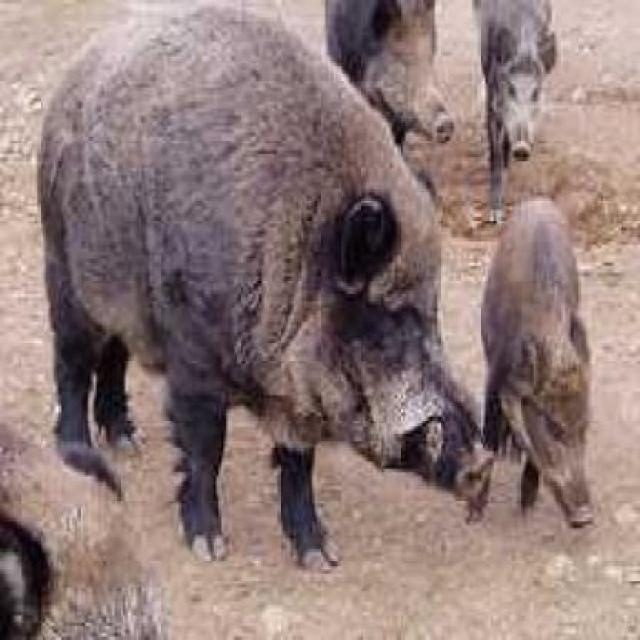Boar: (32, 12, 472, 531), (486, 188, 639, 564), (476, 0, 575, 175), (340, 0, 468, 132)
